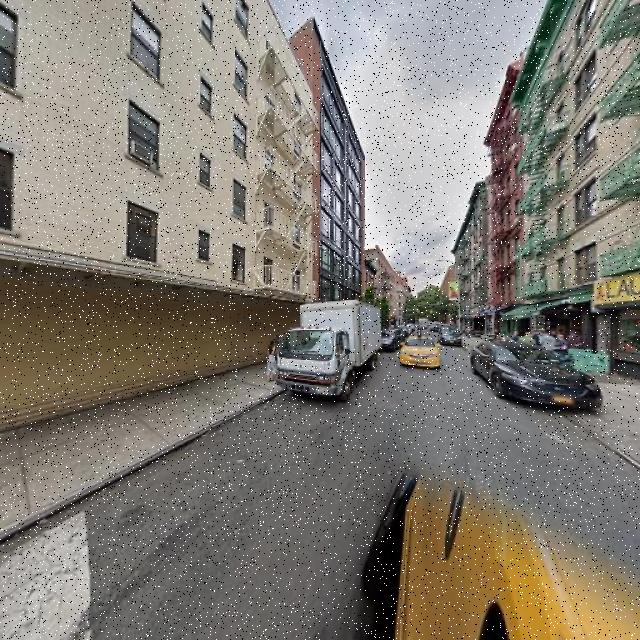Building: (1, 1, 310, 432), (518, 1, 640, 374), (313, 19, 364, 348)
